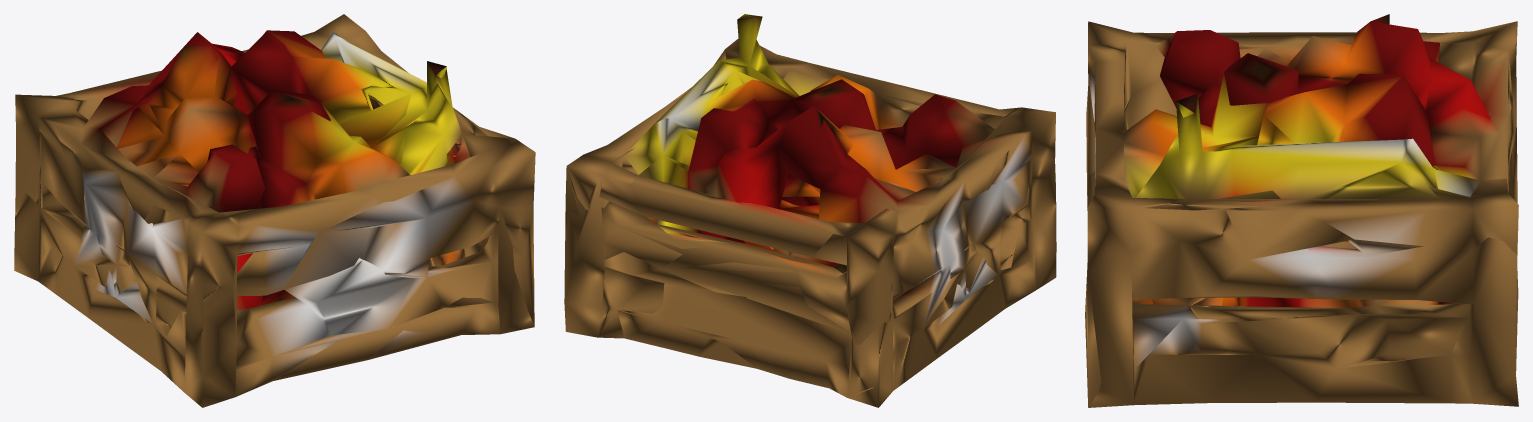
Rendered from gen3d-fruit-crate-lod0.glb.
3 renders of one model, left to right at view 1: azimuth 30°, elevation 25°; view 2: azimuth 150°, elevation 25°; view 3: azimuth 270°, elevation 25°, orthographic. The views are drawn at different scales.
Visible parts, largest first — view 1: part_0; view 2: part_0; view 3: part_0.
Boxes of the visible parts, x1,y1,x2,y2 form: part_0: [14, 14, 535, 407]; part_0: [564, 14, 1056, 407]; part_0: [1085, 14, 1518, 407].
Bounding box in the file's own units: 1.39 × 0.9795 × 1.37.
